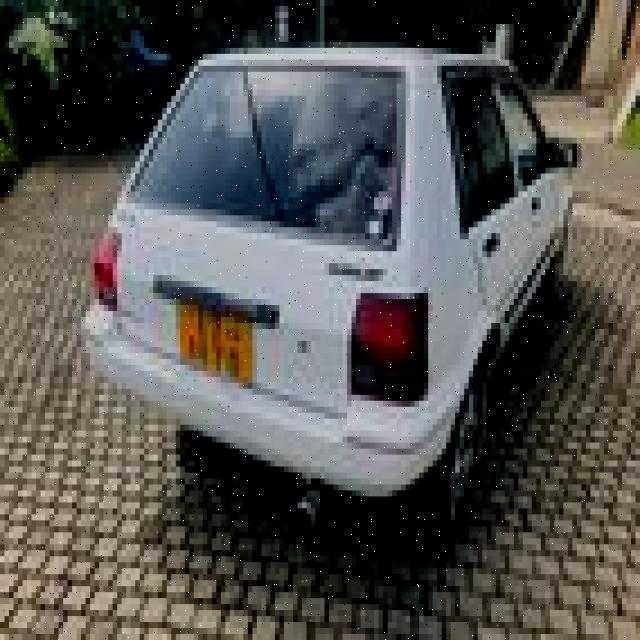car: (66, 32, 590, 532)
